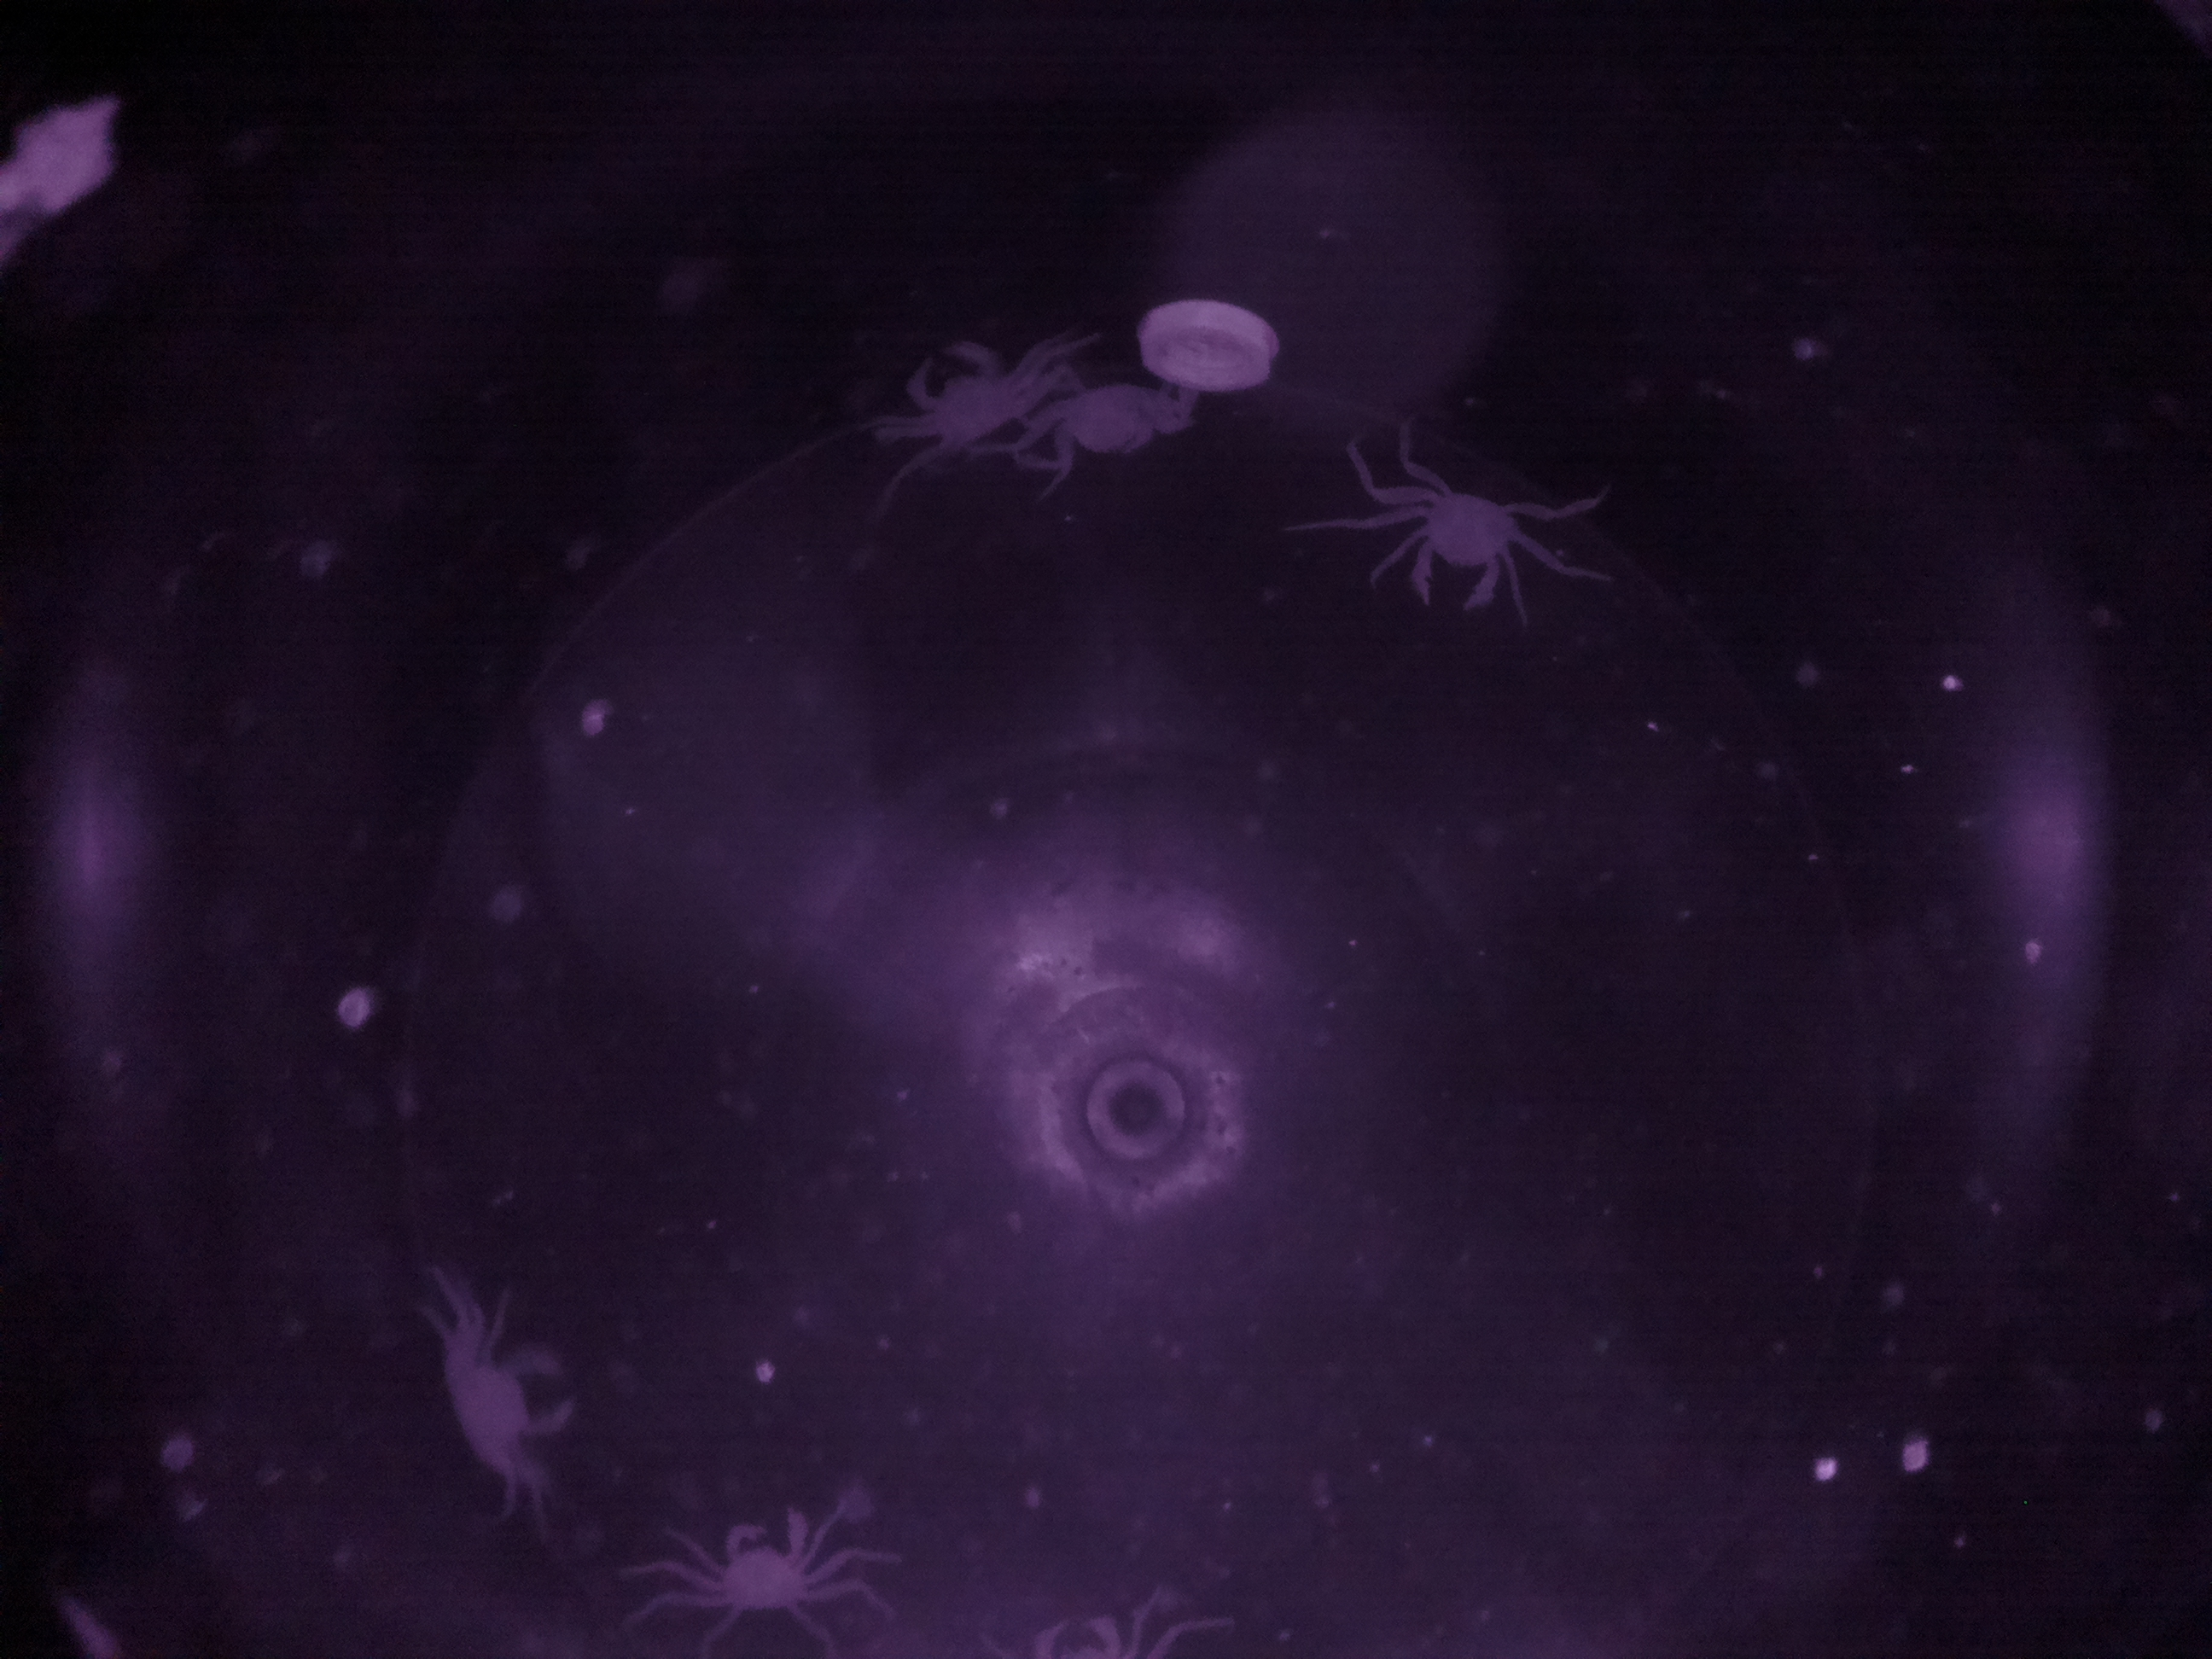Crab: (1383, 451, 1543, 622), (674, 1497, 850, 1640)
